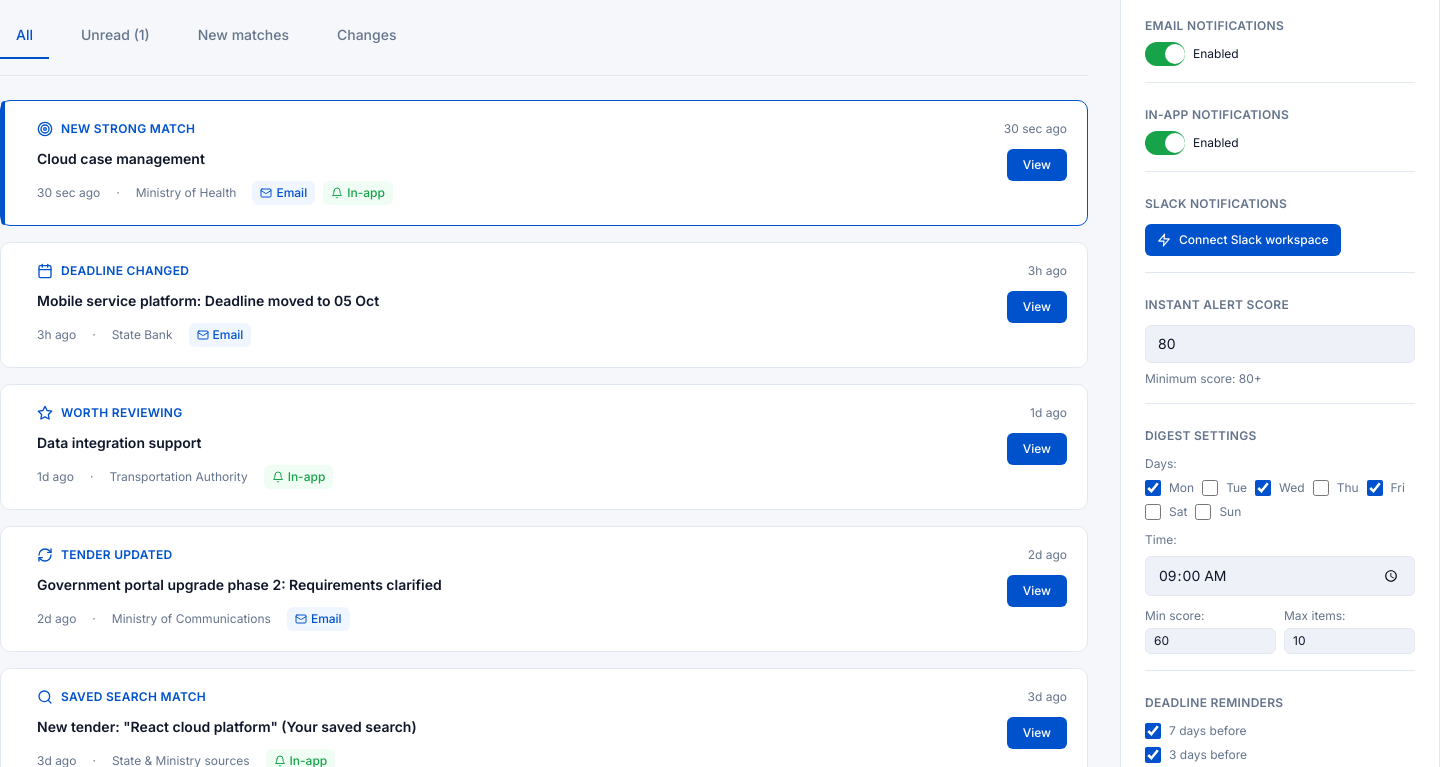
Test: AlertsCenter › updates preview text when threshold changes
Change threshold
Step 1. Replace the text in the number field showing "80" below "Instant alert score" with "90" → (1280, 344), box [1145,325,1415,363]
(page scrolled)
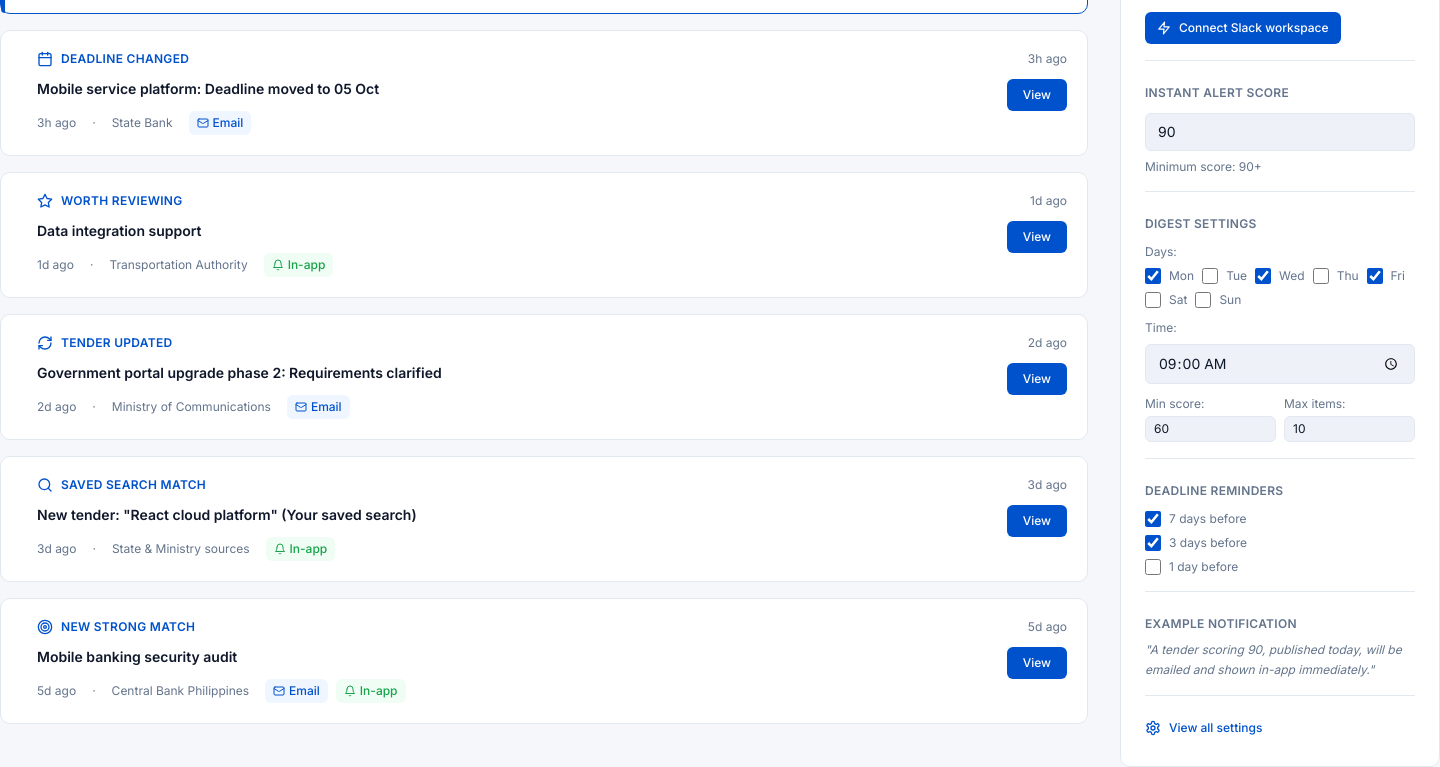
Now the text "A tender scoring 90, published today" is shown, box [1145,642,1402,676]
